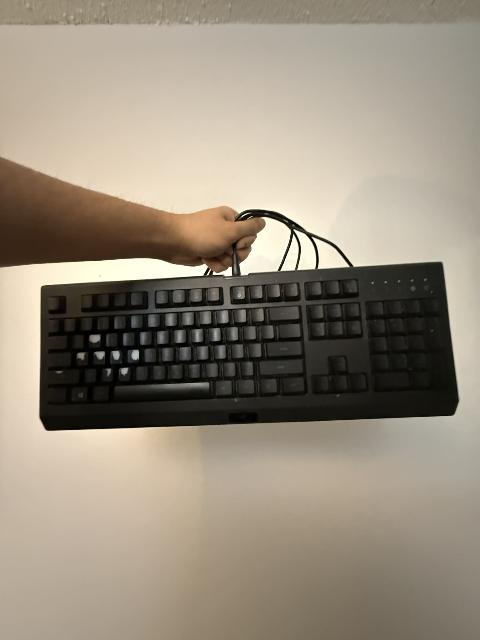ahkeyboard: (28, 252, 472, 441)
